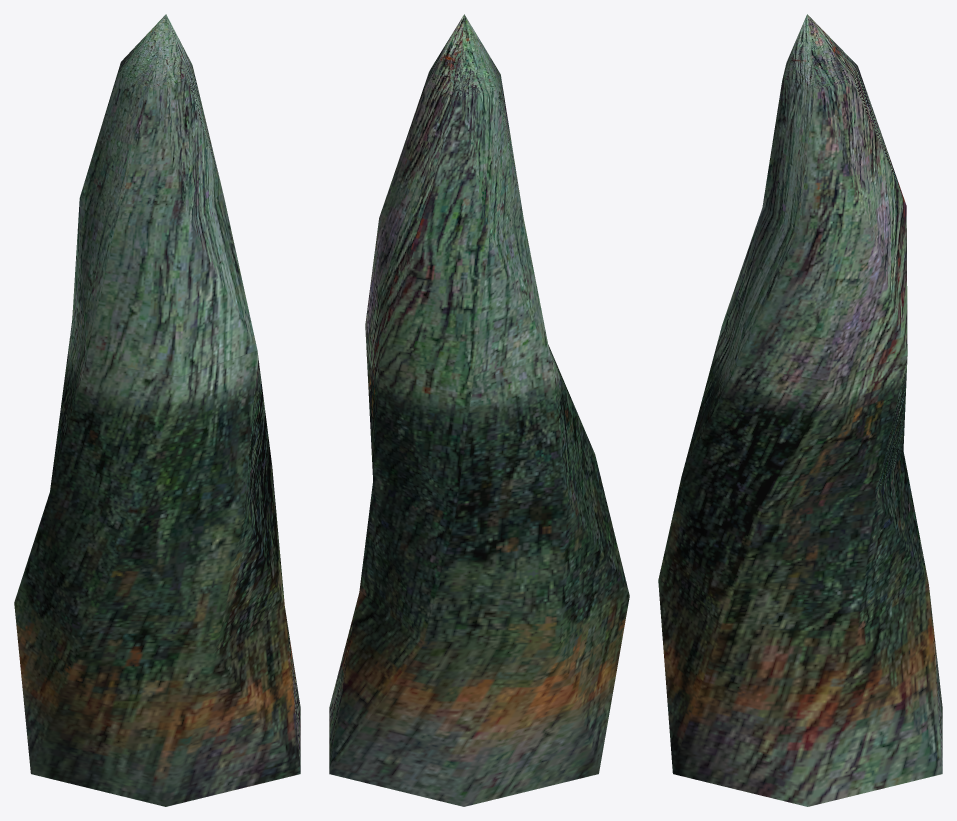
File: decd_treeknee_a1_l0.fbx
3 renders of one model, left to right at view 1: azimuth 30°, elevation 25°; view 2: azimuth 150°, elevation 25°; view 3: azimuth 270°, elevation 25°, orthographic.
Parts seen in each view (by area): view 1: mesh_node; view 2: mesh_node; view 3: mesh_node.
Part boxes in pixels (x1=…): mesh_node: x1=14, y1=14, x2=300, y2=806; mesh_node: x1=329, y1=14, x2=629, y2=806; mesh_node: x1=658, y1=14, x2=942, y2=806.
Size of the model in its own units: 2.79 by 7.2 by 2.55.
